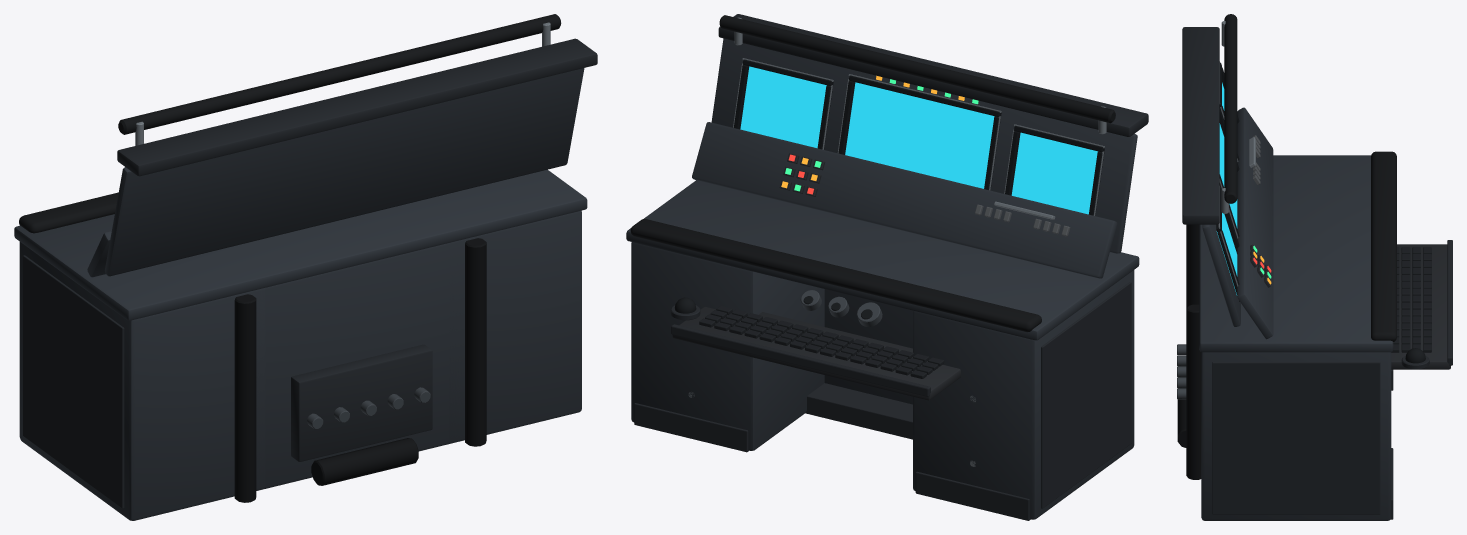
The model's file is bridge_console.glb.
3 renders of one model, left to right at view 1: azimuth 30°, elevation 25°; view 2: azimuth 150°, elevation 25°; view 3: azimuth 270°, elevation 25°, orthographic. The views are drawn at different scales.
Visible parts, largest first — view 1: C_Console_Face_Mat, C_Console_DarkFrame_Mat, C_Console_Cable_Mat, C_Console_Rail_Mat, C_Console_Knob_Mat; view 2: C_Console_Face_Mat, C_Console_DarkFrame_Mat, C_Console_Screen_Mat, C_Console_Rail_Mat, C_Console_Key_Mat, C_Console_KeyTray_Mat, C_Console_Bezel_Mat, C_Console_Frame_Mat, C_Console_Knob_Mat, C_Console_Switch_Mat; view 3: C_Console_Face_Mat, C_Console_DarkFrame_Mat, C_Console_Rail_Mat, C_Console_Cable_Mat, C_Console_KeyTray_Mat, C_Console_Key_Mat, C_Console_Bezel_Mat, C_Console_Screen_Mat, C_Console_Frame_Mat, C_Console_Knob_Mat.
Boxes of the visible parts, bbox=[...] form: C_Console_Face_Mat: bbox=[14, 68, 587, 520]; C_Console_DarkFrame_Mat: bbox=[23, 38, 597, 508]; C_Console_Cable_Mat: bbox=[234, 238, 486, 502]; C_Console_Rail_Mat: bbox=[19, 14, 561, 233]; C_Console_Knob_Mat: bbox=[307, 387, 430, 429]; C_Console_Face_Mat: bbox=[626, 38, 1139, 519]; C_Console_DarkFrame_Mat: bbox=[634, 14, 1148, 520]; C_Console_Screen_Mat: bbox=[740, 66, 1097, 214]; C_Console_Rail_Mat: bbox=[630, 15, 1115, 332]; C_Console_Key_Mat: bbox=[699, 306, 944, 378]; C_Console_KeyTray_Mat: bbox=[672, 153, 960, 400]; C_Console_Bezel_Mat: bbox=[733, 59, 1104, 215]; C_Console_Frame_Mat: bbox=[688, 17, 1106, 466]; C_Console_Knob_Mat: bbox=[800, 290, 882, 326]; C_Console_Switch_Mat: bbox=[975, 204, 1070, 236]; C_Console_Face_Mat: bbox=[1199, 107, 1393, 520]; C_Console_DarkFrame_Mat: bbox=[1182, 27, 1452, 519]; C_Console_Rail_Mat: bbox=[1224, 14, 1396, 341]; C_Console_Cable_Mat: bbox=[1177, 224, 1201, 479]; C_Console_KeyTray_Mat: bbox=[1250, 244, 1450, 369]; C_Console_Key_Mat: bbox=[1391, 247, 1431, 352]; C_Console_Bezel_Mat: bbox=[1216, 62, 1239, 301]; C_Console_Screen_Mat: bbox=[1216, 82, 1237, 295]; C_Console_Frame_Mat: bbox=[1218, 21, 1255, 286]; C_Console_Knob_Mat: bbox=[1177, 344, 1186, 399].
Bounding box in the file's own units: 2.4 × 1.93 × 1.48.
